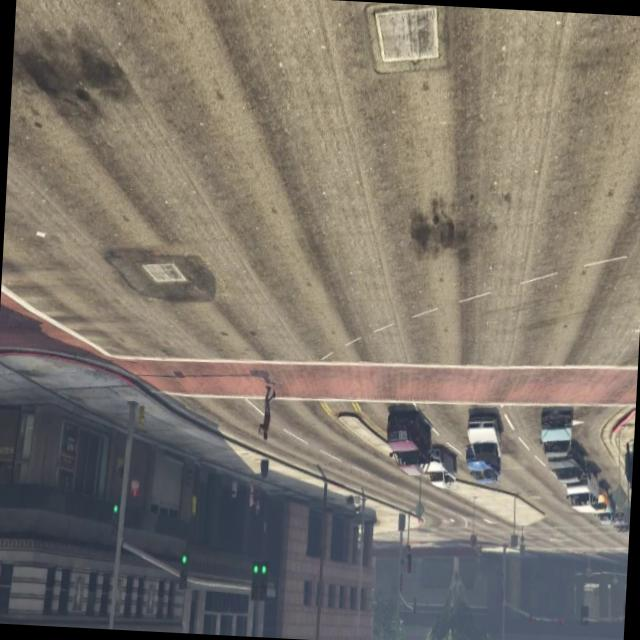Green-Signal: (245, 556, 272, 606), (104, 490, 123, 548), (172, 550, 192, 599)
